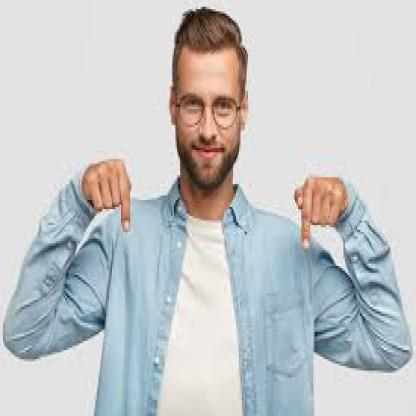Down: (77, 134, 140, 248), (287, 162, 351, 262)
